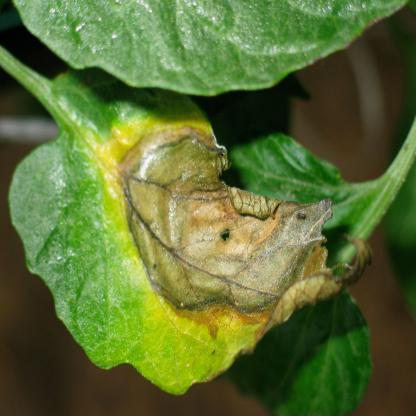Tomato leaf late blight: (8, 45, 371, 395)
